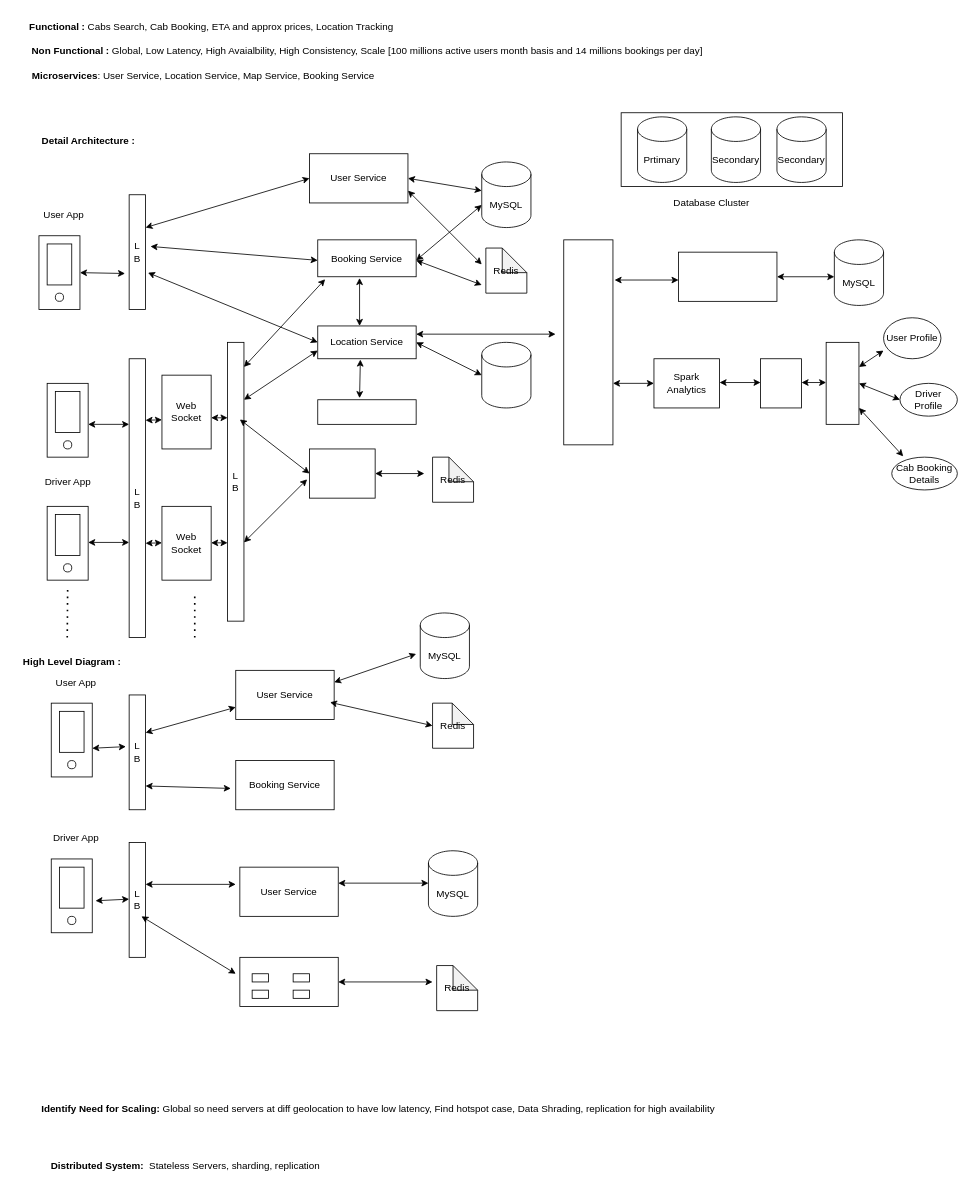
This 972x1192 diagram has some shape labels left out. Here are the shapes that lost their labels. From the top down, the centre of each, then its label:
At point (727, 276): "Payment Service".
At point (588, 342): "K A F K A".
At point (506, 375): "Cassandra".
At point (781, 383): "Kafka Cluster".
At point (842, 383): "KAFKA".
At point (366, 411): "Map Service".
At point (342, 473): "Web Socket Manager".
